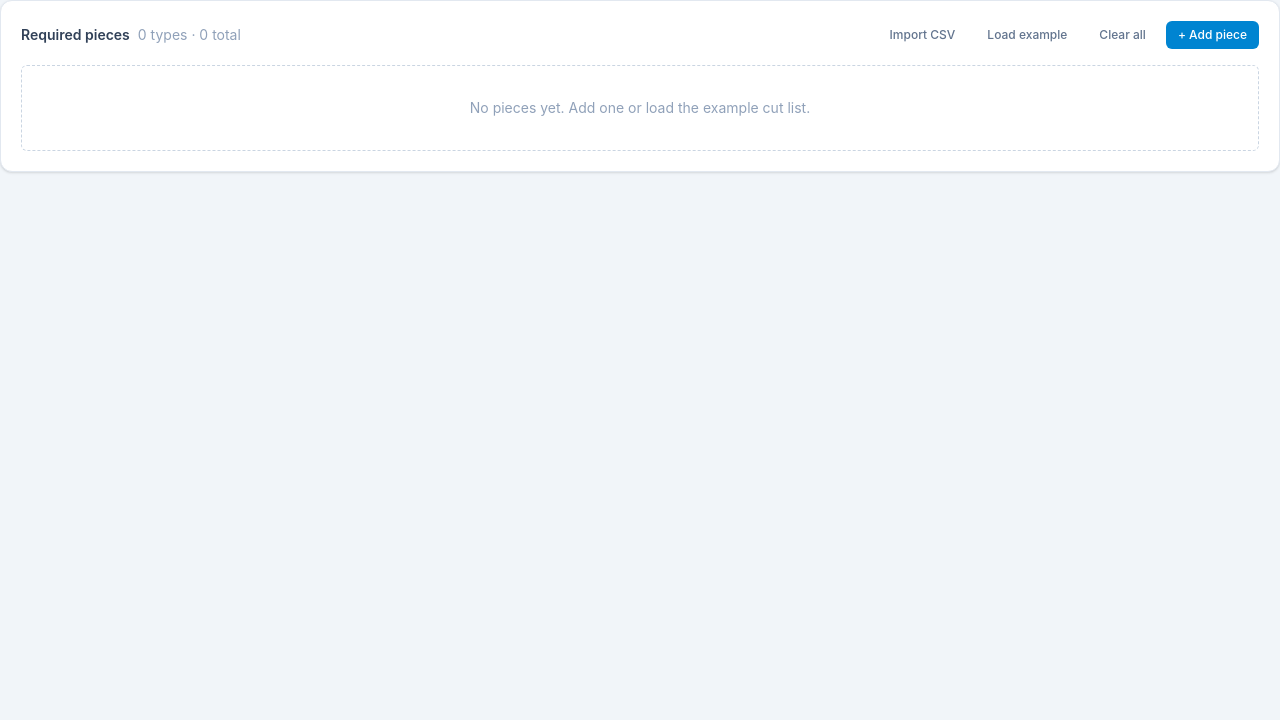
Test: PieceTable › loads the example cut list
The image size is (1280, 720).
Click the button "Load example": [1027, 35] box [975, 21, 1079, 49]
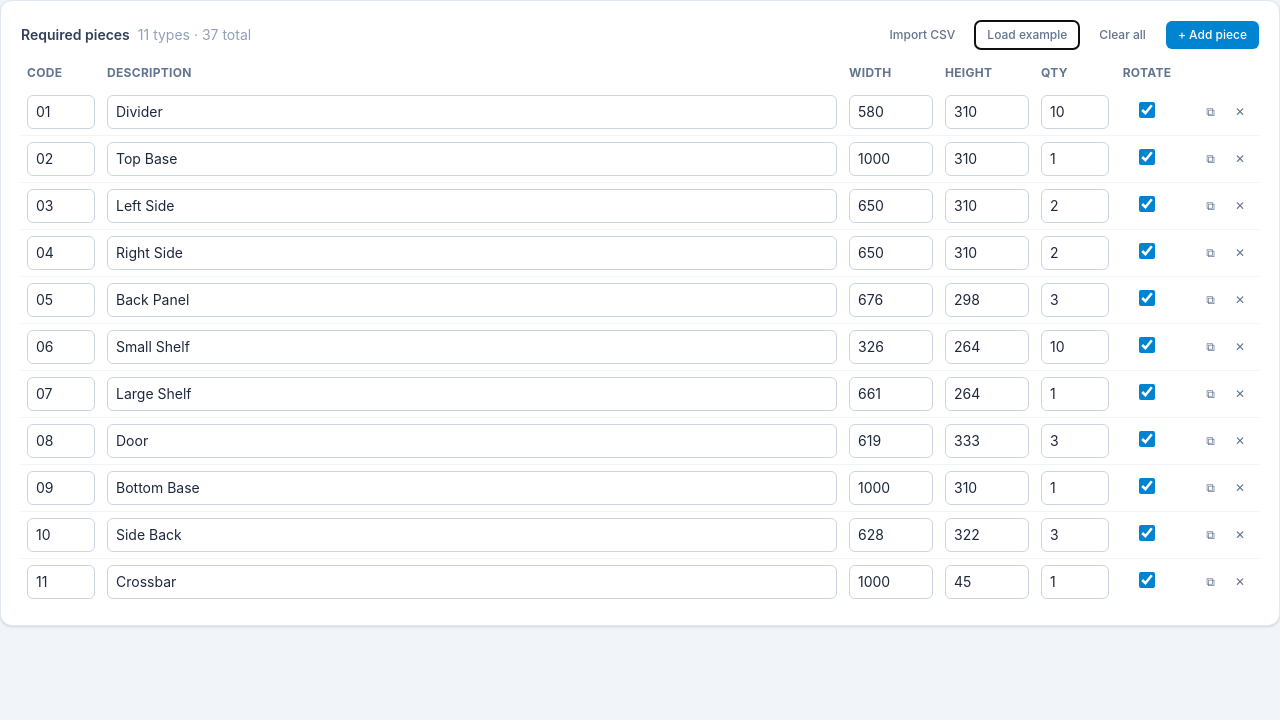
Result: the number of fields named "Piece code" is 11
Result: the text "11 types · 37 total" is shown at [138, 26, 251, 43]
